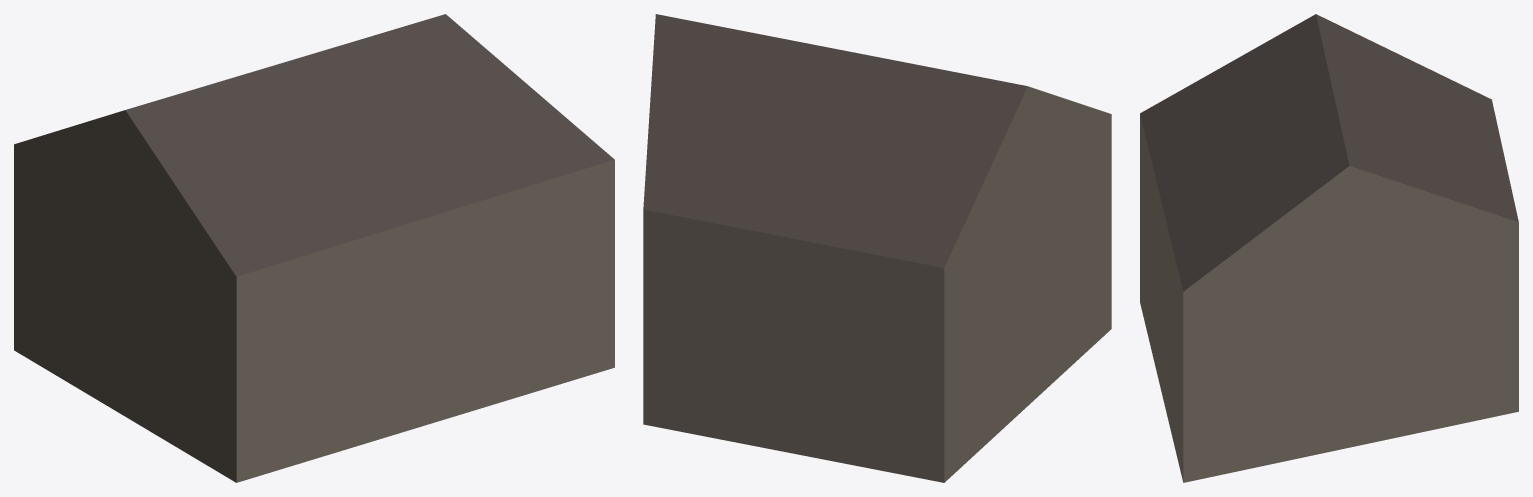
3 views of the same model, side by side, from view 1: azimuth 30°, elevation 25°; view 2: azimuth 150°, elevation 25°; view 3: azimuth 270°, elevation 25° (orthographic). The views are drawn at different scales.
Visible parts, largest first — view 1: HP-w369342481; view 2: HP-w369342481; view 3: HP-w369342481.
Part boxes in pixels (<box>): HP-w369342481: <box>14,14,614,482</box>; HP-w369342481: <box>643,14,1111,482</box>; HP-w369342481: <box>1140,14,1518,482</box>.
Size of the model in its own units: 13.19 by 8.93 by 10.88.
